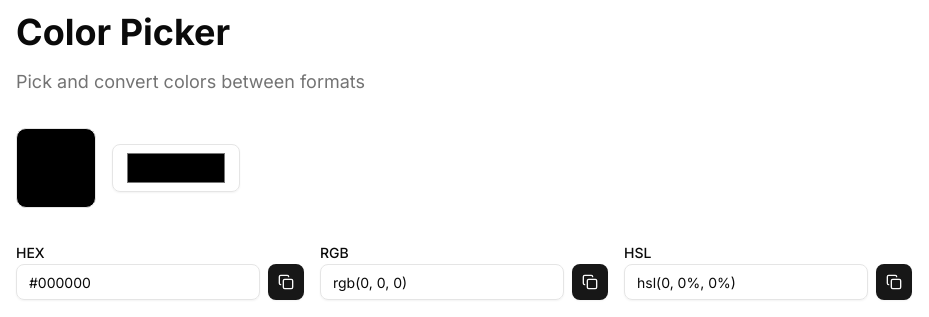
Test: ColorPicker › updates all color formats when color input changes
Type "#ff0000" into the colour field.
click(176, 168); type("#ff0000")  # box [112, 144, 240, 192]
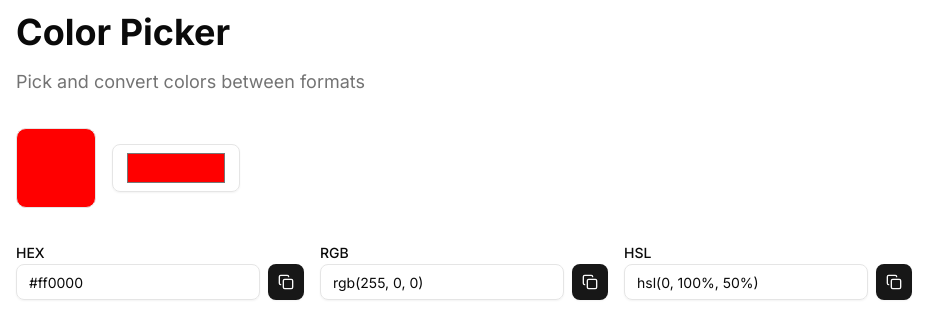
Check: the field showing "rgb(255, 0, 0)" below "RGB" is shown, box [320, 264, 564, 300]
Check: the field showing "hsl(0, 100%, 50%)" below "HSL" is shown, box [624, 264, 868, 300]
